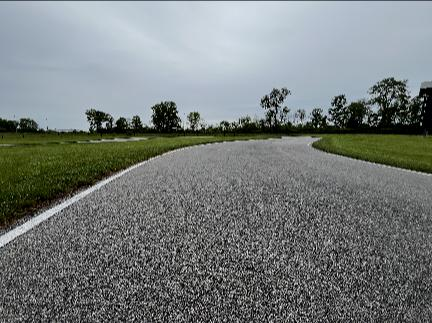Grass: (0, 137, 258, 222), (313, 134, 431, 173), (0, 132, 216, 145)
Lane: (0, 137, 431, 322), (38, 137, 152, 145)
